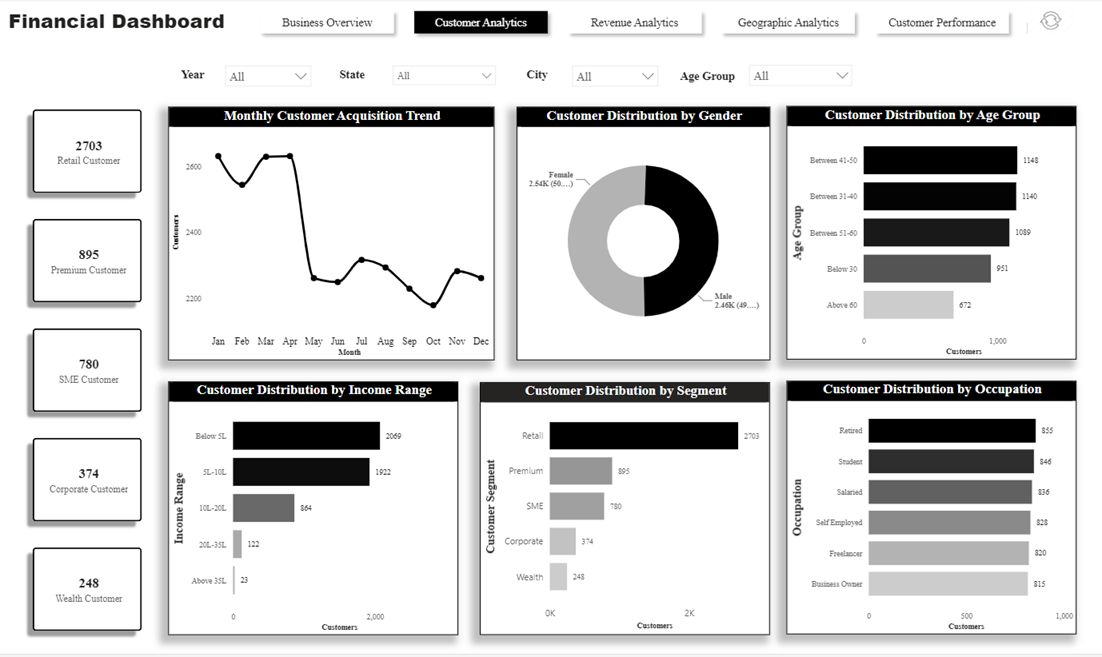

Layout of this report page (visuals, bound fields, positions):
{"tool":"powerbi","page":{"name":"Customer Analytics","canvas":[1500,900],"ordinal":1},"visuals":[{"type":"group","id":"g1","title":"Group 1","box":[224.2,78.2,208.6,47],"z":0,"group":"g2"},{"type":"cardVisual","fields":{"Data":["customers csv.Retail Customer","customers csv.Premium Customer","customers csv.SME Customer","customers csv.Corporate Customer","customers csv.Wealth Customer"]},"box":[8.4,117.7,213,782.3],"z":0},{"type":"group","id":"g2","title":"Group 5","box":[224.2,77,954.8,48.2],"z":1000},{"type":"group","id":"g3","title":"Group 3","box":[432.8,78.2,254.8,47],"z":1000,"group":"g2"},{"type":"group","id":"g4","title":"Group 2","box":[913,77,266,44.8],"z":2000,"group":"g2"},{"type":"lineChart","title":"Monthly Customer Acquisition Trend","fields":{"Category":["finance_transactions csv.Transaction_Month_Name"],"Y":["finance_transactions csv.Total Customers"]},"box":[225.6,144.4,450,350],"z":2000},{"type":"group","id":"g5","title":"Group 4","box":[687.6,78.2,223.4,45],"z":3000,"group":"g2"},{"type":"donutChart","title":"Customer Distribution by Gender","fields":{"Category":["customers csv.gender"],"Y":["CountNonNull(customers csv.gender)"]},"box":[705.6,144.4,350,350],"z":3000},{"type":"clusteredBarChart","title":"Customer Distribution by Occupation","fields":{"Category":["customers csv.occupation"],"Y":["CountNonNull(customers csv.occupation)"]},"box":[1077.8,523.3,400,350],"z":4000},{"type":"clusteredBarChart","title":"Customer Distribution by Segment","fields":{"Category":["customers csv.customer_segment"],"Y":["CountNonNull(customers csv.customer_segment)"]},"box":[655,524.6,400.5,349.4],"z":5000},{"type":"actionButton","box":[1408.5,0,69.2,51.7],"z":6000},{"type":"slicer","fields":{"Values":["finance_transactions csv.Transaction_Year"]},"box":[293.7,78.2,138.5,46],"z":6000,"group":"g1"},{"type":"textbox","box":[0,2.1,312.1,51.7],"z":7000},{"type":"slicer","fields":{"Values":["customers csv.state"]},"box":[525.3,78.2,162.3,46.4],"z":7000,"group":"g3"},{"type":"pageNavigator","box":[343.1,4.1,1053,49.6],"z":8000},{"type":"slicer","fields":{"Values":["customers csv.city"]},"box":[772.2,78.2,138.5,45],"z":8000,"group":"g5"},{"type":"clusteredBarChart","title":"Customer Distribution by Age Group","fields":{"Category":["customers csv.age_group"],"Y":["CountNonNull(customers csv.age_group)"]},"box":[1077.4,143.9,400.5,350.4],"z":8001},{"type":"clusteredBarChart","title":"Customer Distribution by Income Range","fields":{"Category":["customers csv.income_range"],"Y":["CountNonNull(customers csv.income_range)"]},"box":[225.3,523.6,400.5,350.4],"z":8002},{"type":"slicer","fields":{"Values":["customers csv.age_group"]},"box":[1016.3,77,162.7,44.8],"z":9000,"group":"g4"},{"type":"textbox","box":[224.2,86.4,69.5,30],"z":10000,"group":"g1"},{"type":"textbox","box":[913,87.5,111.6,32.3],"z":10000,"group":"g4"},{"type":"textbox","box":[432.8,86.1,92.3,30],"z":10002,"group":"g3"},{"type":"textbox","box":[687.6,86.5,92.3,30],"z":10002,"group":"g5"}]}

Visuals, with their boxes in screenshot pixels (x1, y1, x2, y2), scaled from the page's 1500x900 canvas onto the 1102x657 screenshot:
"Group 1" group: box(165, 57, 318, 91)
cardVisual - customers csv.Retail Customer x customers csv.Premium Customer: box(6, 86, 163, 656)
"Group 5" group: box(165, 56, 866, 91)
"Group 3" group: box(318, 57, 505, 91)
"Group 2" group: box(671, 56, 866, 89)
"Monthly Customer Acquisition Trend" lineChart: box(166, 105, 496, 361)
"Group 4" group: box(505, 57, 669, 90)
"Customer Distribution by Gender" donutChart: box(518, 105, 776, 361)
"Customer Distribution by Occupation" clusteredBarChart: box(792, 382, 1086, 638)
"Customer Distribution by Segment" clusteredBarChart: box(481, 383, 775, 638)
actionButton: box(1035, 0, 1086, 38)
slicer - finance_transactions csv.Transaction_Year: box(216, 57, 318, 91)
textbox: box(0, 2, 229, 39)
slicer - customers csv.state: box(386, 57, 505, 91)
pageNavigator: box(252, 3, 1026, 39)
slicer - customers csv.city: box(567, 57, 669, 90)
"Customer Distribution by Age Group" clusteredBarChart: box(792, 105, 1086, 361)
"Customer Distribution by Income Range" clusteredBarChart: box(166, 382, 460, 638)
slicer - customers csv.age_group: box(747, 56, 866, 89)
textbox: box(165, 63, 216, 85)
textbox: box(671, 64, 753, 87)
textbox: box(318, 63, 386, 85)
textbox: box(505, 63, 573, 85)
